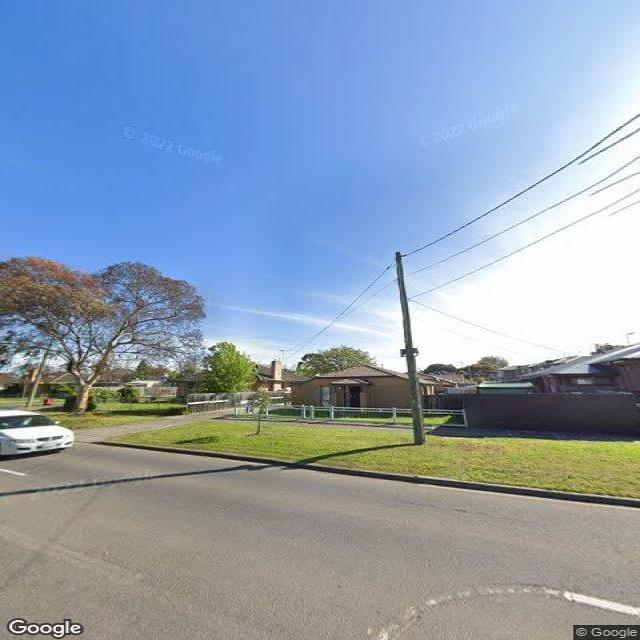timber-pole: (393, 253, 430, 444)
